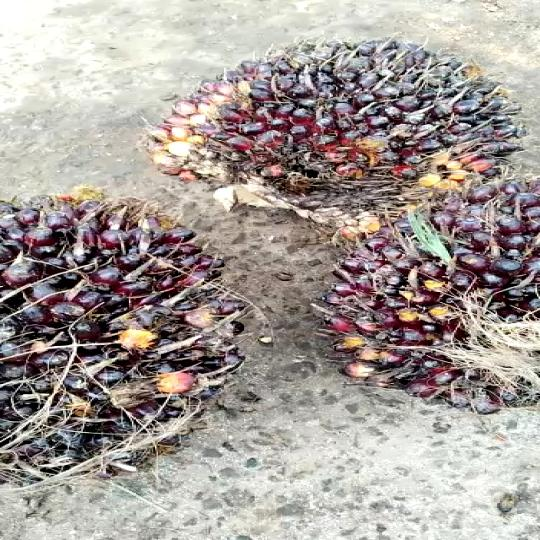kurang masak: (0, 191, 217, 495), (167, 29, 536, 207), (332, 190, 540, 424)
